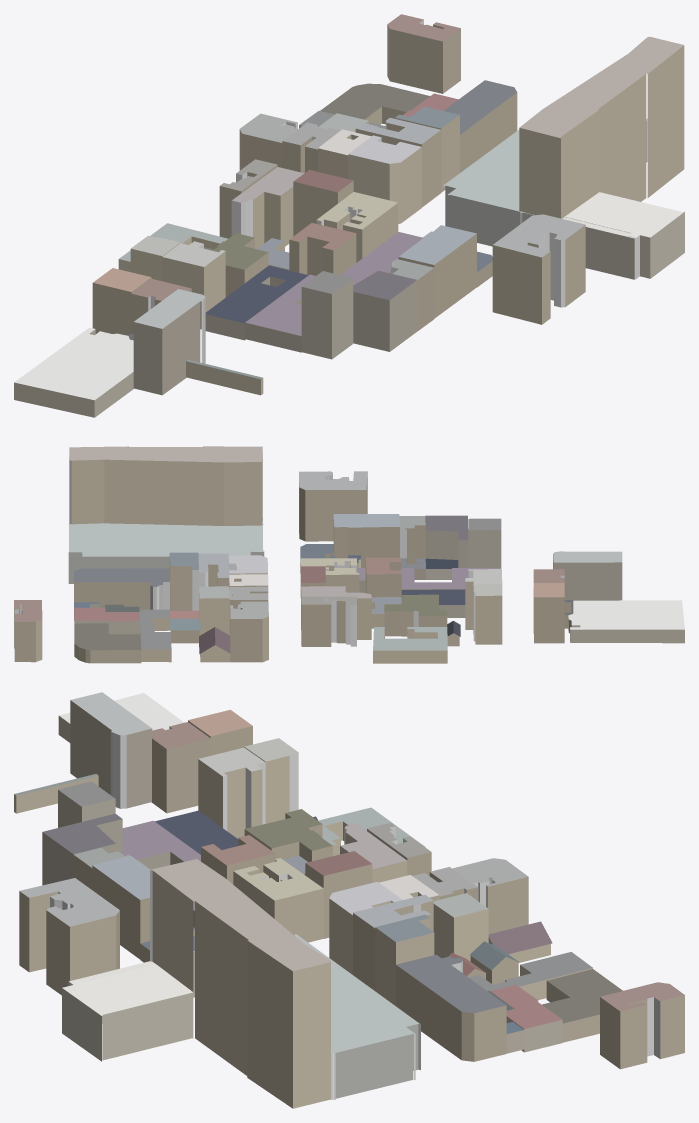
3 views of the same model, one above another, from view 1: azimuth 30°, elevation 25°; view 2: azimuth 150°, elevation 25°; view 3: azimuth 270°, elevation 25° (orthographic). The views are drawn at different scales.
Parts seen in each view (by area): view 1: tuile; view 2: tuile; view 3: tuile.
Part boxes in pixels (x1=…): tuile: x1=14, y1=14, x2=684, y2=417; tuile: x1=14, y1=446, x2=684, y2=663; tuile: x1=14, y1=692, x2=684, y2=1108.
Size of the model in its own units: 236 by 39.42 by 168.
